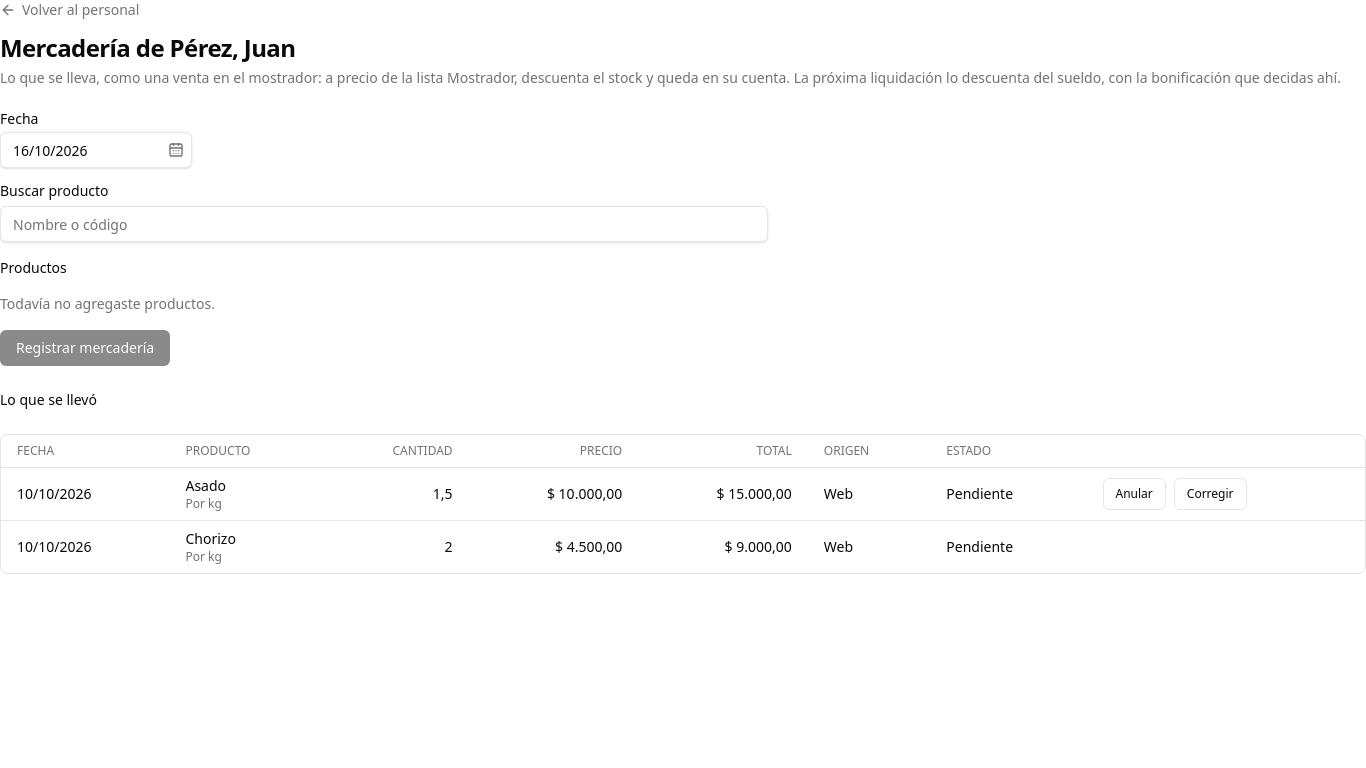
Test: EmployeeGoodsPage › voiding and correcting a registration › corrects a registration: voids it and loads its products and date again
Step 1. Click the button with aria-label "Corregir la carga del 10/10/2026 (Asado, Chorizo)" → click(1210, 494), box [1174,478,1246,510]
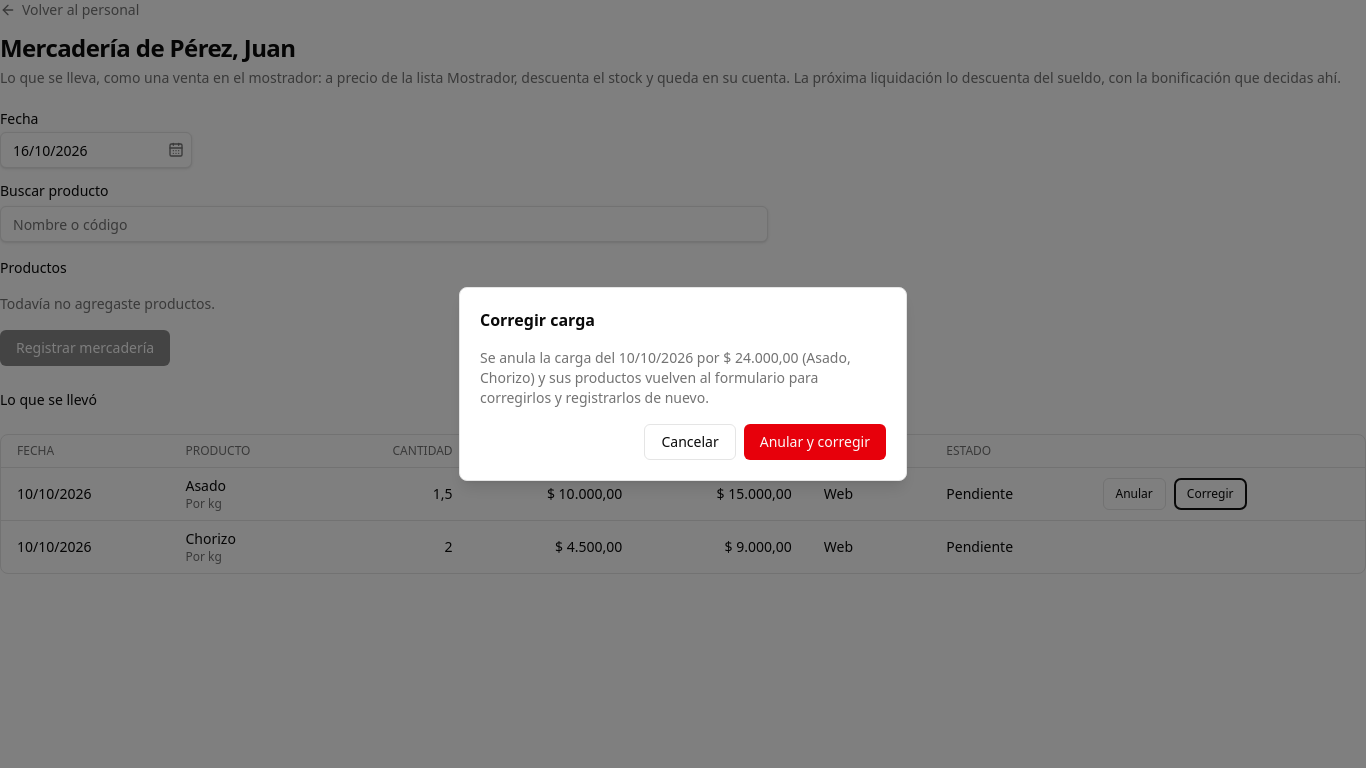
Step 2. Click the button "Anular y corregir" → click(815, 442), box [744,424,886,460]
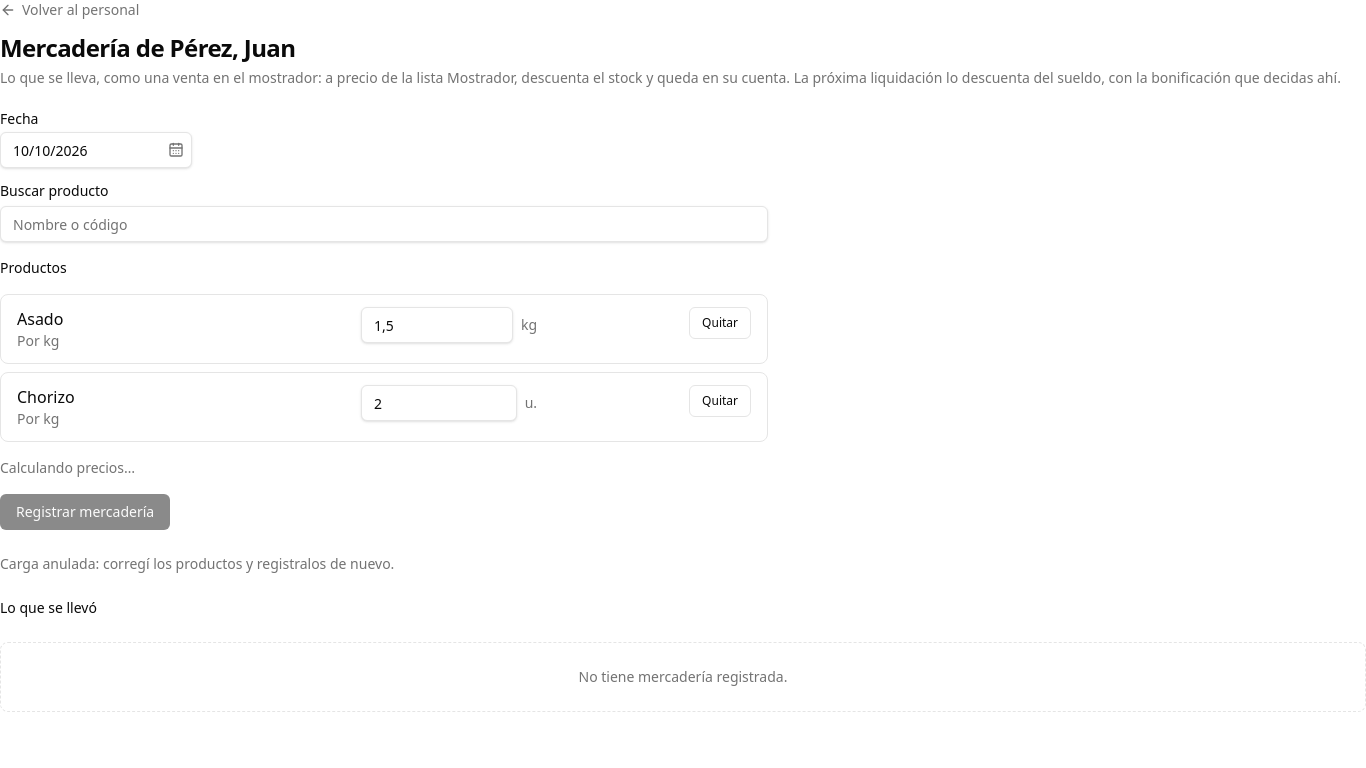
expect the text "Carga anulada: corregí los productos y registralos de nuevo." is shown: met, box [0,554,394,573]
expect the field named "Cantidad de Asado Por kg" holds "1,5": met, box [361,307,513,343]
expect the field named "Cantidad de Chorizo Por kg" holds "2": met, box [361,385,517,421]
